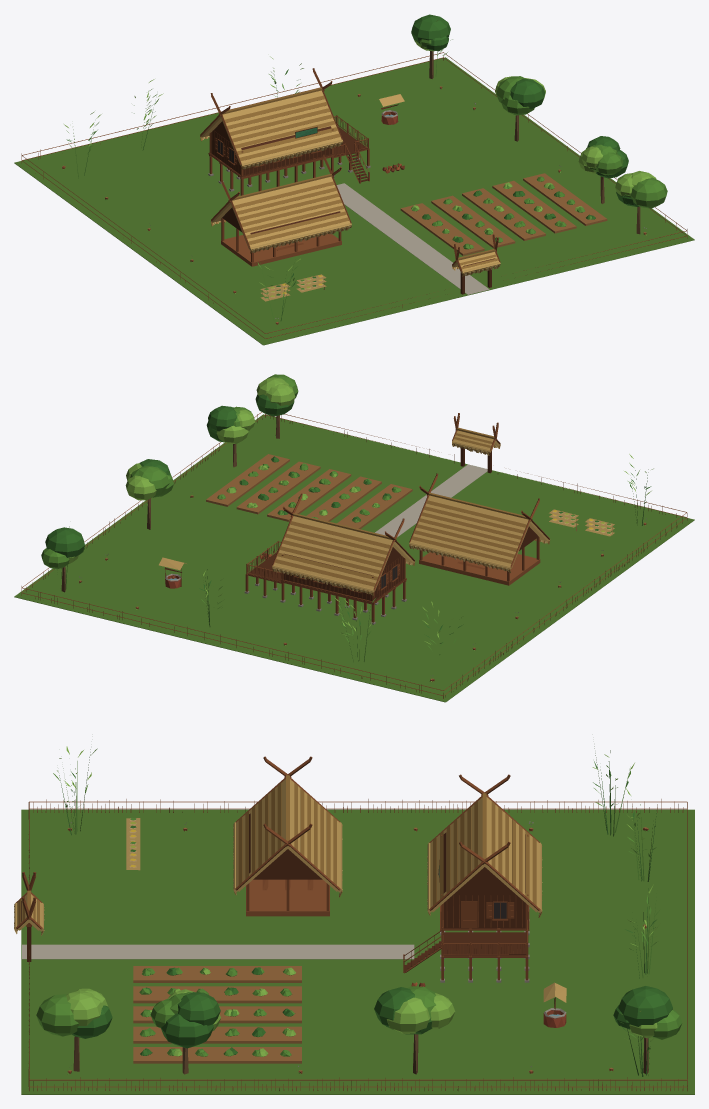
File: hospital.glb
3 views of the same model, one above another, from view 1: azimuth 30°, elevation 25°; view 2: azimuth 150°, elevation 25°; view 3: azimuth 270°, elevation 25° (orthographic). The views are drawn at different scales.
Parts seen in each view (by area): view 1: body; view 2: body; view 3: body.
Boxes of the visible parts, x1=… form: body: x1=14, y1=14, x2=694, y2=345; body: x1=14, y1=374, x2=694, y2=702; body: x1=14, y1=746, x2=694, y2=1094.
Bounding box in the file's own units: 47.9 × 9.68 × 48.43.
